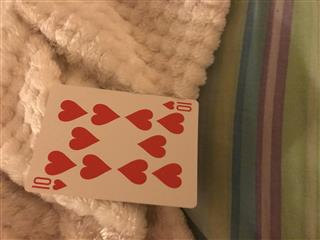TenOfHearts: (22, 83, 199, 209)
